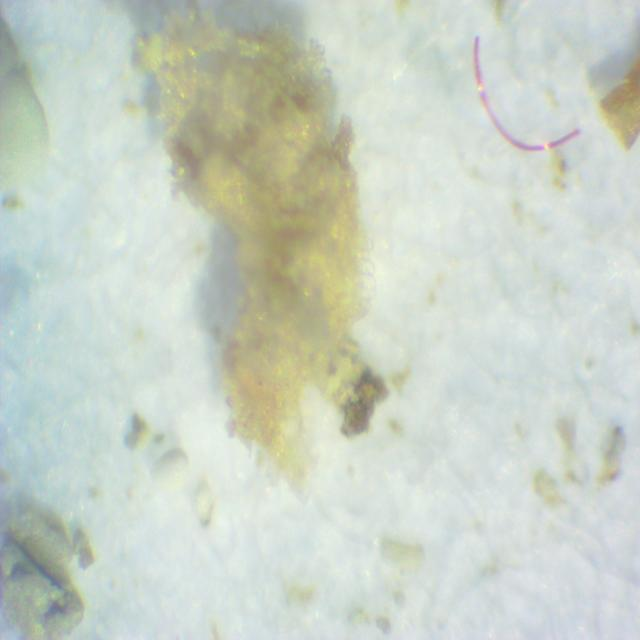microplastic: (142, 10, 372, 444), (473, 36, 582, 159)
